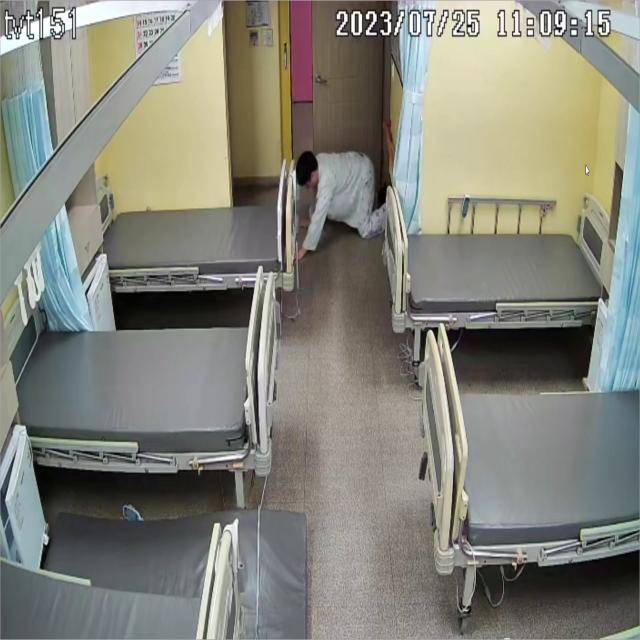bed: (420, 324, 640, 569), (14, 318, 278, 470), (382, 213, 616, 332), (105, 192, 294, 290)
fall: (295, 150, 384, 256)
patient: (295, 148, 386, 253)
